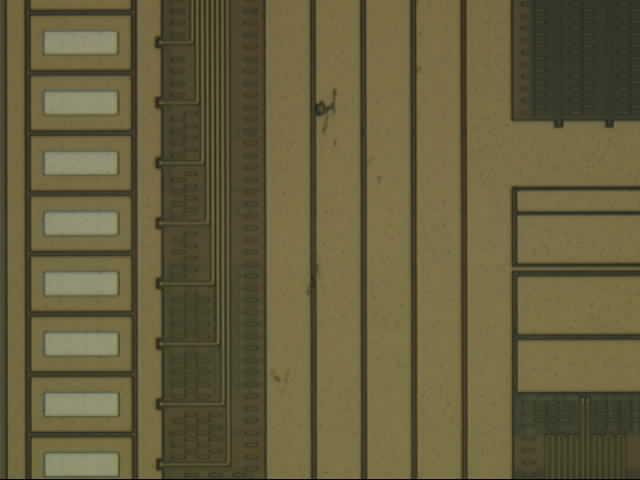PO CONTAMINATION: (265, 84, 392, 398)
